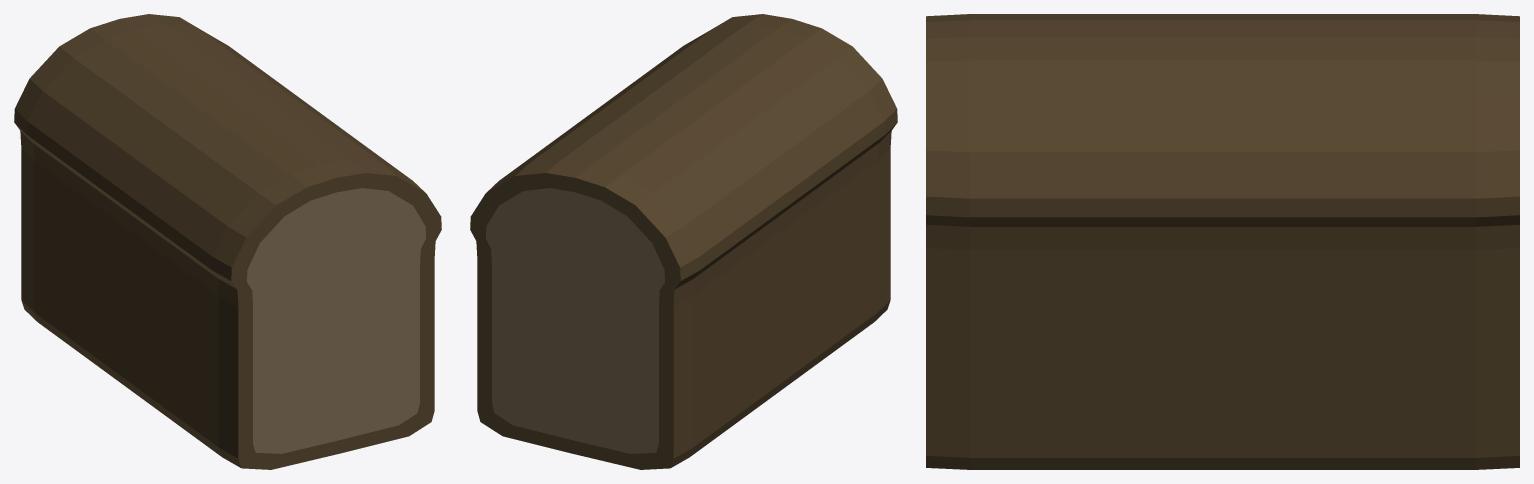
Rendered from bread.glb.
3 renders of one model, left to right at view 1: azimuth 30°, elevation 25°; view 2: azimuth 150°, elevation 25°; view 3: azimuth 270°, elevation 25°, orthographic. The views are drawn at different scales.
Parts seen in each view (by area): view 1: bread; view 2: bread; view 3: bread.
Boxes of the visible parts, bbox=[...] form: bread: bbox=[14, 14, 441, 469]; bread: bbox=[470, 14, 897, 469]; bread: bbox=[926, 14, 1519, 469].
Size of the model in its own units: 0.1735 by 0.2119 by 0.3.
